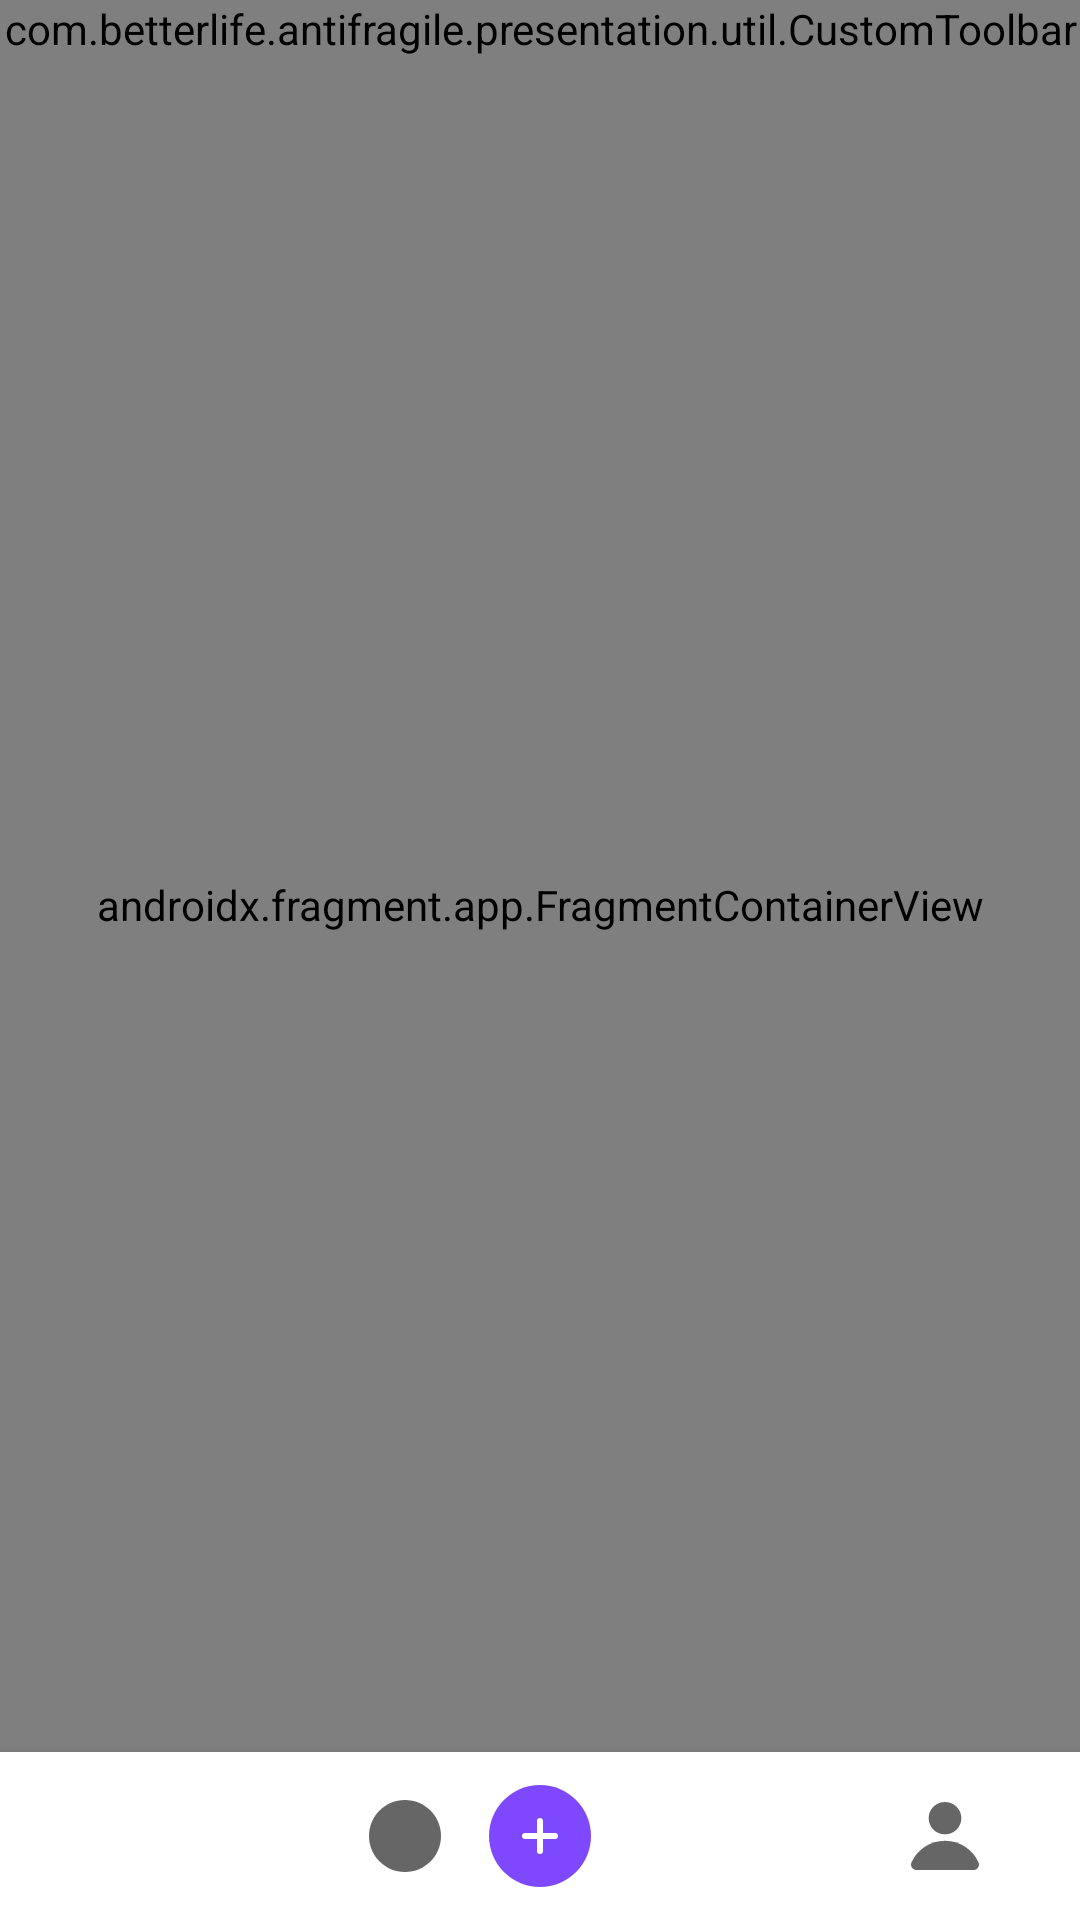

Icon click points for this 1080x1920 phone screenshot, format point (x, y):
add diary: point (540, 1836)
